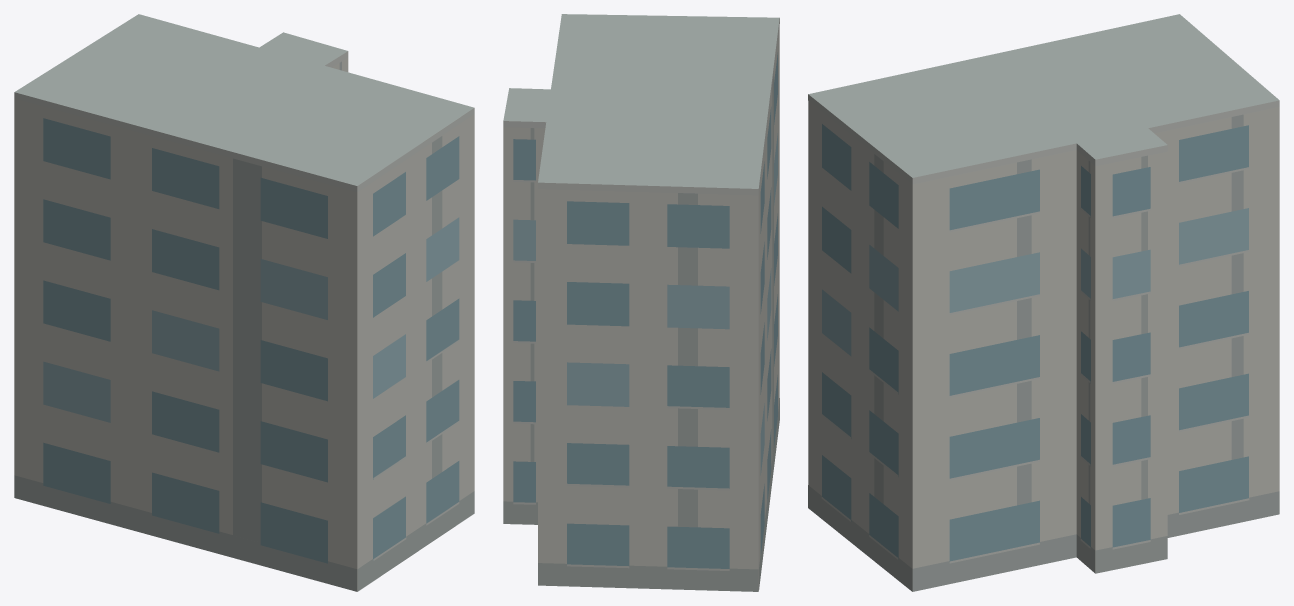
Rendered from survey-upis-32705106.glb.
The picture shows the model from 3 angles, left to right: view 1: azimuth 30°, elevation 25°; view 2: azimuth 150°, elevation 25°; view 3: azimuth 270°, elevation 25°; orthographic projection. The views are drawn at different scales.
Visible parts, largest first — view 1: survey-upis-32705106.tmp; view 2: survey-upis-32705106.tmp; view 3: survey-upis-32705106.tmp.
Boxes of the visible parts, x1=… form: survey-upis-32705106.tmp: x1=14, y1=14, x2=474, y2=591; survey-upis-32705106.tmp: x1=503, y1=14, x2=779, y2=591; survey-upis-32705106.tmp: x1=808, y1=14, x2=1279, y2=591.
Bounding box in the file's own units: 13.17 × 15.5 × 16.01.
